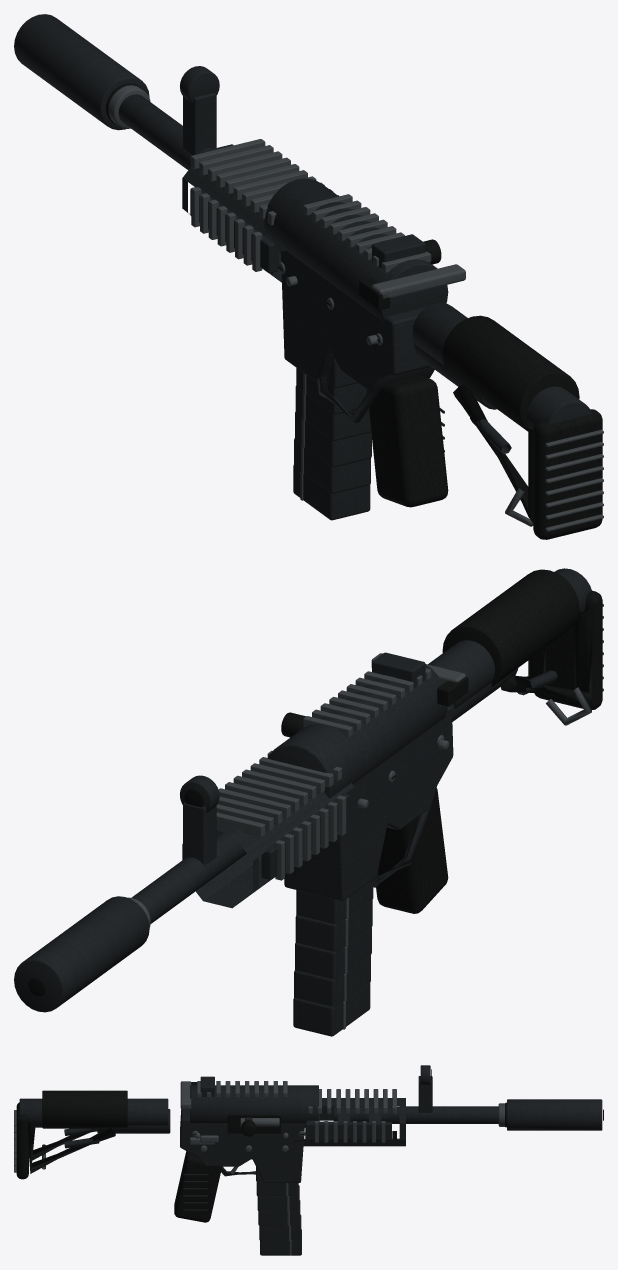
The picture shows the model from 3 angles, top to bottom: view 1: azimuth 30°, elevation 25°; view 2: azimuth 150°, elevation 25°; view 3: azimuth 270°, elevation 25°; orthographic projection. The views are drawn at different scales.
Visible parts, largest first — view 1: weapon_Weapon finish / Parkerized steel, weapon_Parkerized steel, weapon_Machined edges, weapon_Polymer, weapon_Weapon finish / Polymer, magazine_Parkerized steel; view 2: weapon_Weapon finish / Parkerized steel, weapon_Parkerized steel, weapon_Machined edges, weapon_Weapon finish / Polymer, magazine_Parkerized steel, weapon_Polymer; view 3: weapon_Weapon finish / Parkerized steel, weapon_Parkerized steel, weapon_Weapon finish / Polymer, weapon_Machined edges, weapon_Polymer, magazine_Parkerized steel, bolt_Machined edges.
Boxes of the visible parts, x1=… form: weapon_Weapon finish / Parkerized steel: x1=182, y1=144, x2=591, y2=426; weapon_Parkerized steel: x1=14, y1=14, x2=511, y2=454; weapon_Machined edges: x1=108, y1=85, x2=603, y2=531; weapon_Polymer: x1=106, y1=83, x2=602, y2=539; weapon_Weapon finish / Polymer: x1=442, y1=315, x2=579, y2=523; magazine_Parkerized steel: x1=293, y1=359, x2=371, y2=520; weapon_Weapon finish / Parkerized steel: x1=182, y1=568, x2=591, y2=908; weapon_Parkerized steel: x1=14, y1=652, x2=557, y2=1012; weapon_Machined edges: x1=127, y1=604, x2=603, y2=927; weapon_Weapon finish / Polymer: x1=442, y1=569, x2=592, y2=704; magazine_Parkerized steel: x1=293, y1=882, x2=373, y2=1036; weapon_Polymer: x1=28, y1=590, x2=602, y2=996; weapon_Weapon finish / Parkerized steel: x1=19, y1=1085, x2=405, y2=1182; weapon_Parkerized steel: x1=64, y1=1065, x2=602, y2=1210; weapon_Weapon finish / Polymer: x1=28, y1=1090, x2=127, y2=1173; weapon_Machined edges: x1=14, y1=1081, x2=504, y2=1172; weapon_Polymer: x1=16, y1=1069, x2=603, y2=1222; magazine_Parkerized steel: x1=256, y1=1167, x2=301, y2=1255; bolt_Machined edges: x1=240, y1=1118, x2=279, y2=1126.
Bounding box in the file's own units: 0.1352 × 0.3625 × 1.05.
Materials: 5 (5 with a texture image).
